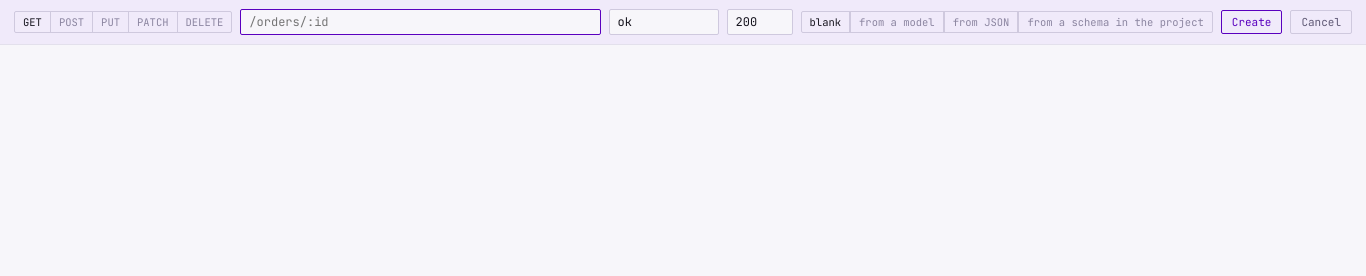
Test case: the JSON flow › offers the three flows, and shows the body box only in this one
This screenshot has width=1366, height=276.
Click the button "from JSON" at (981, 22), box x1=944 y1=12 x2=1018 y2=32
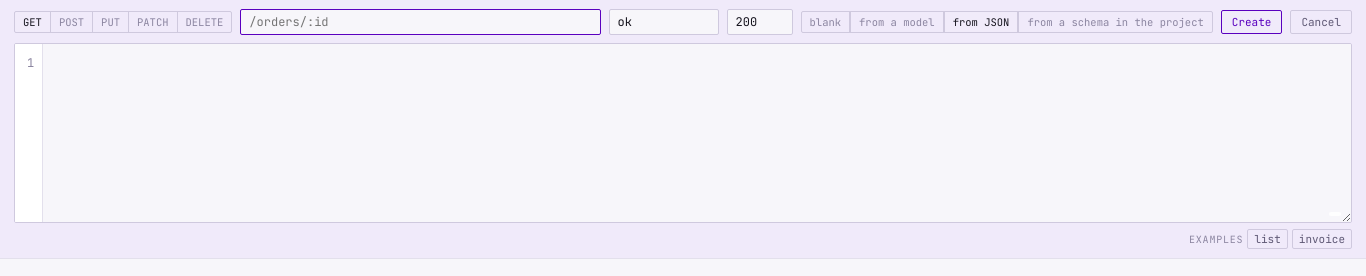
Expected: the text box named "response body" is shown
